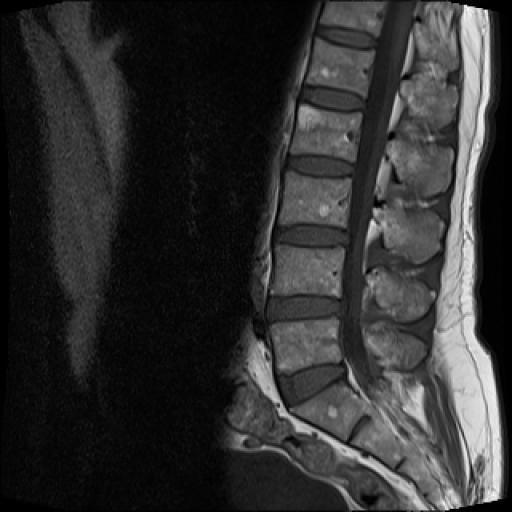L1: (306, 37, 375, 98)
L2: (290, 104, 362, 162)
L3: (278, 171, 350, 228)
L4: (271, 244, 345, 298)
L5: (271, 318, 341, 375)
S1: (291, 381, 367, 442)
